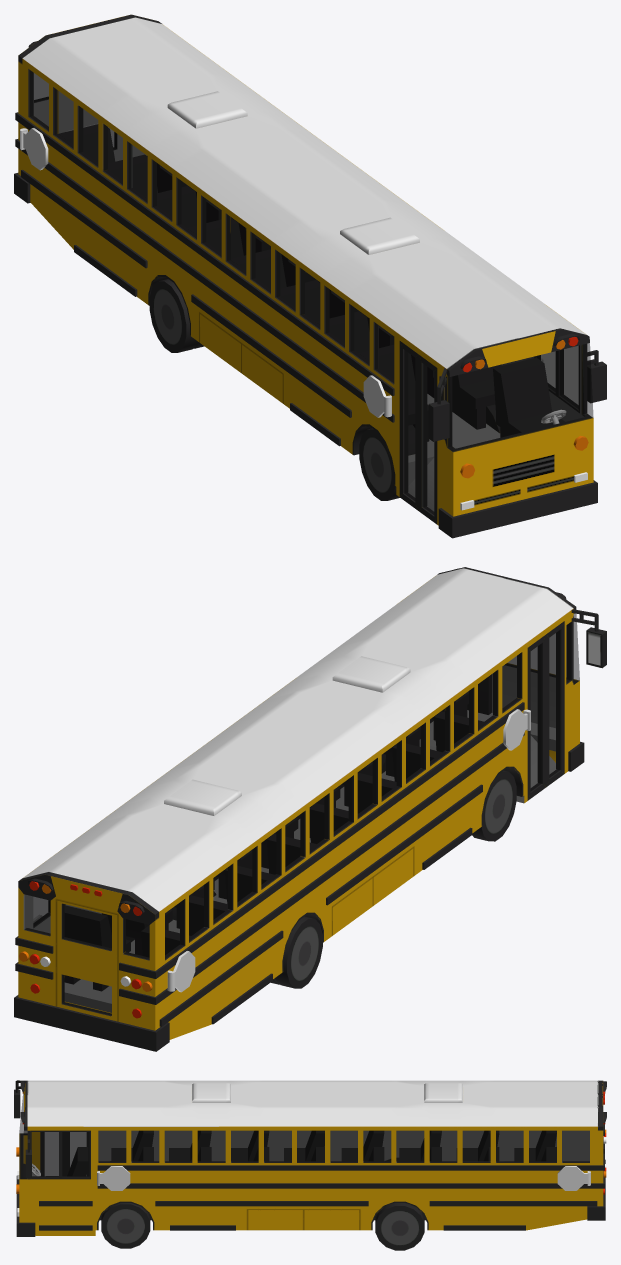
The model's file is bus.glb.
The picture shows the model from 3 angles, top to bottom: view 1: azimuth 30°, elevation 25°; view 2: azimuth 150°, elevation 25°; view 3: azimuth 270°, elevation 25°; orthographic projection. The views are drawn at different scales.
Visible parts, largest first — view 1: bus, Door_Right, Door_Left, Wheel_2, Wheel_4, Stop_Sign_2, Stop_Sign_4; view 2: bus, Door_Left, Door_Right, Wheel_2, Wheel_4, Stop_Sign_2, Stop_Sign_4; view 3: bus, Wheel_1, Wheel_3, Door_Left, Stop_Sign_1, Door_Right, Stop_Sign_3.
Part boxes in pixels (box(x1,y1,x2,y2)): bus: box(14, 14, 606, 538); Door_Right: box(399, 341, 418, 510); Door_Left: box(418, 355, 437, 524); Wheel_2: box(149, 279, 204, 352); Wheel_4: box(359, 428, 399, 500); Stop_Sign_2: box(20, 128, 48, 170); Stop_Sign_4: box(363, 375, 391, 417); bus: box(14, 567, 606, 1051); Door_Left: box(546, 621, 564, 787); Door_Right: box(527, 635, 545, 800); Wheel_2: box(271, 916, 322, 988); Wheel_4: box(472, 770, 516, 841); Stop_Sign_2: box(167, 951, 195, 992); Stop_Sign_4: box(503, 709, 530, 750); bus: box(14, 1080, 606, 1236); Wheel_1: box(375, 1203, 424, 1250); Wheel_3: box(101, 1203, 150, 1248); Door_Left: box(40, 1132, 65, 1176); Stop_Sign_1: box(557, 1166, 590, 1190); Door_Right: box(65, 1132, 89, 1176); Stop_Sign_3: box(97, 1166, 130, 1190).
Size of the model in its own units: 3.32 by 3.52 by 13.91.
Materials: 4 (1 with a texture image).
